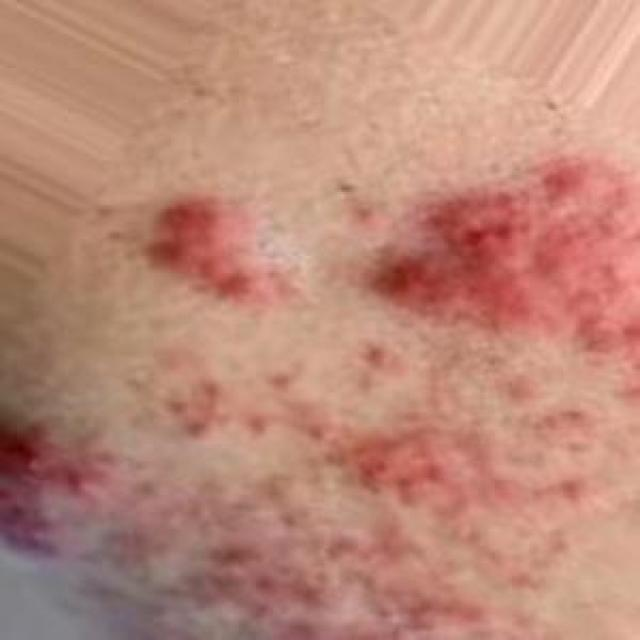Shingles: (0, 340, 603, 638), (353, 155, 640, 359), (149, 192, 281, 312)
